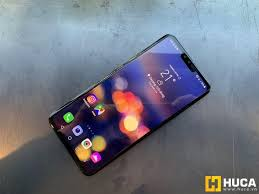lg: (47, 31, 212, 176)
